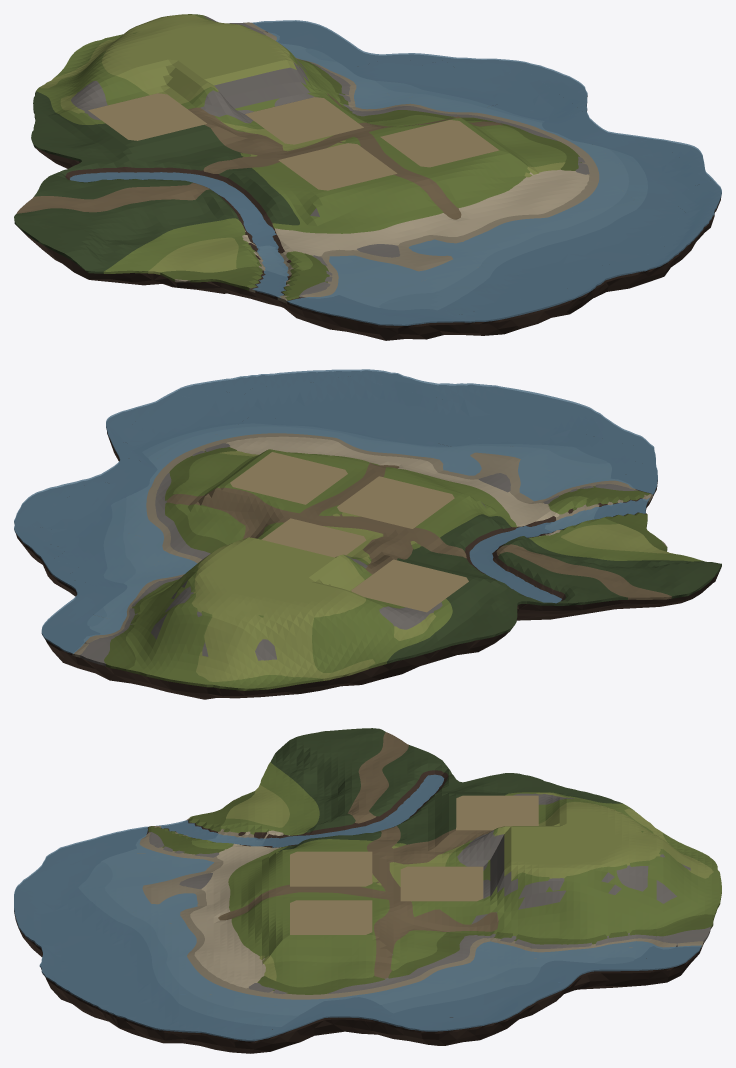
File: campground-lake-terrain-b5f899.glb
3 views of the same model, one above another, from view 1: azimuth 30°, elevation 25°; view 2: azimuth 150°, elevation 25°; view 3: azimuth 270°, elevation 25° (orthographic). The views are drawn at different scales.
Visible parts, largest first — view 1: ground, water; view 2: ground, water; view 3: ground, water.
Part boxes in pixels (box(x1,y1,x2,y2)): ground: box(14, 14, 721, 340); water: box(70, 20, 721, 325); ground: box(15, 371, 721, 699); water: box(14, 369, 657, 653); ground: box(14, 728, 721, 1053); water: box(14, 774, 701, 1041).
Size of the model in its own units: 97.16 by 16.43 by 102.
